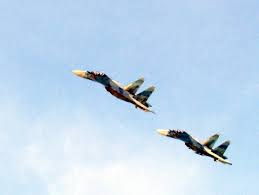maybay_muctieu: (67, 63, 155, 117), (158, 122, 231, 166)
